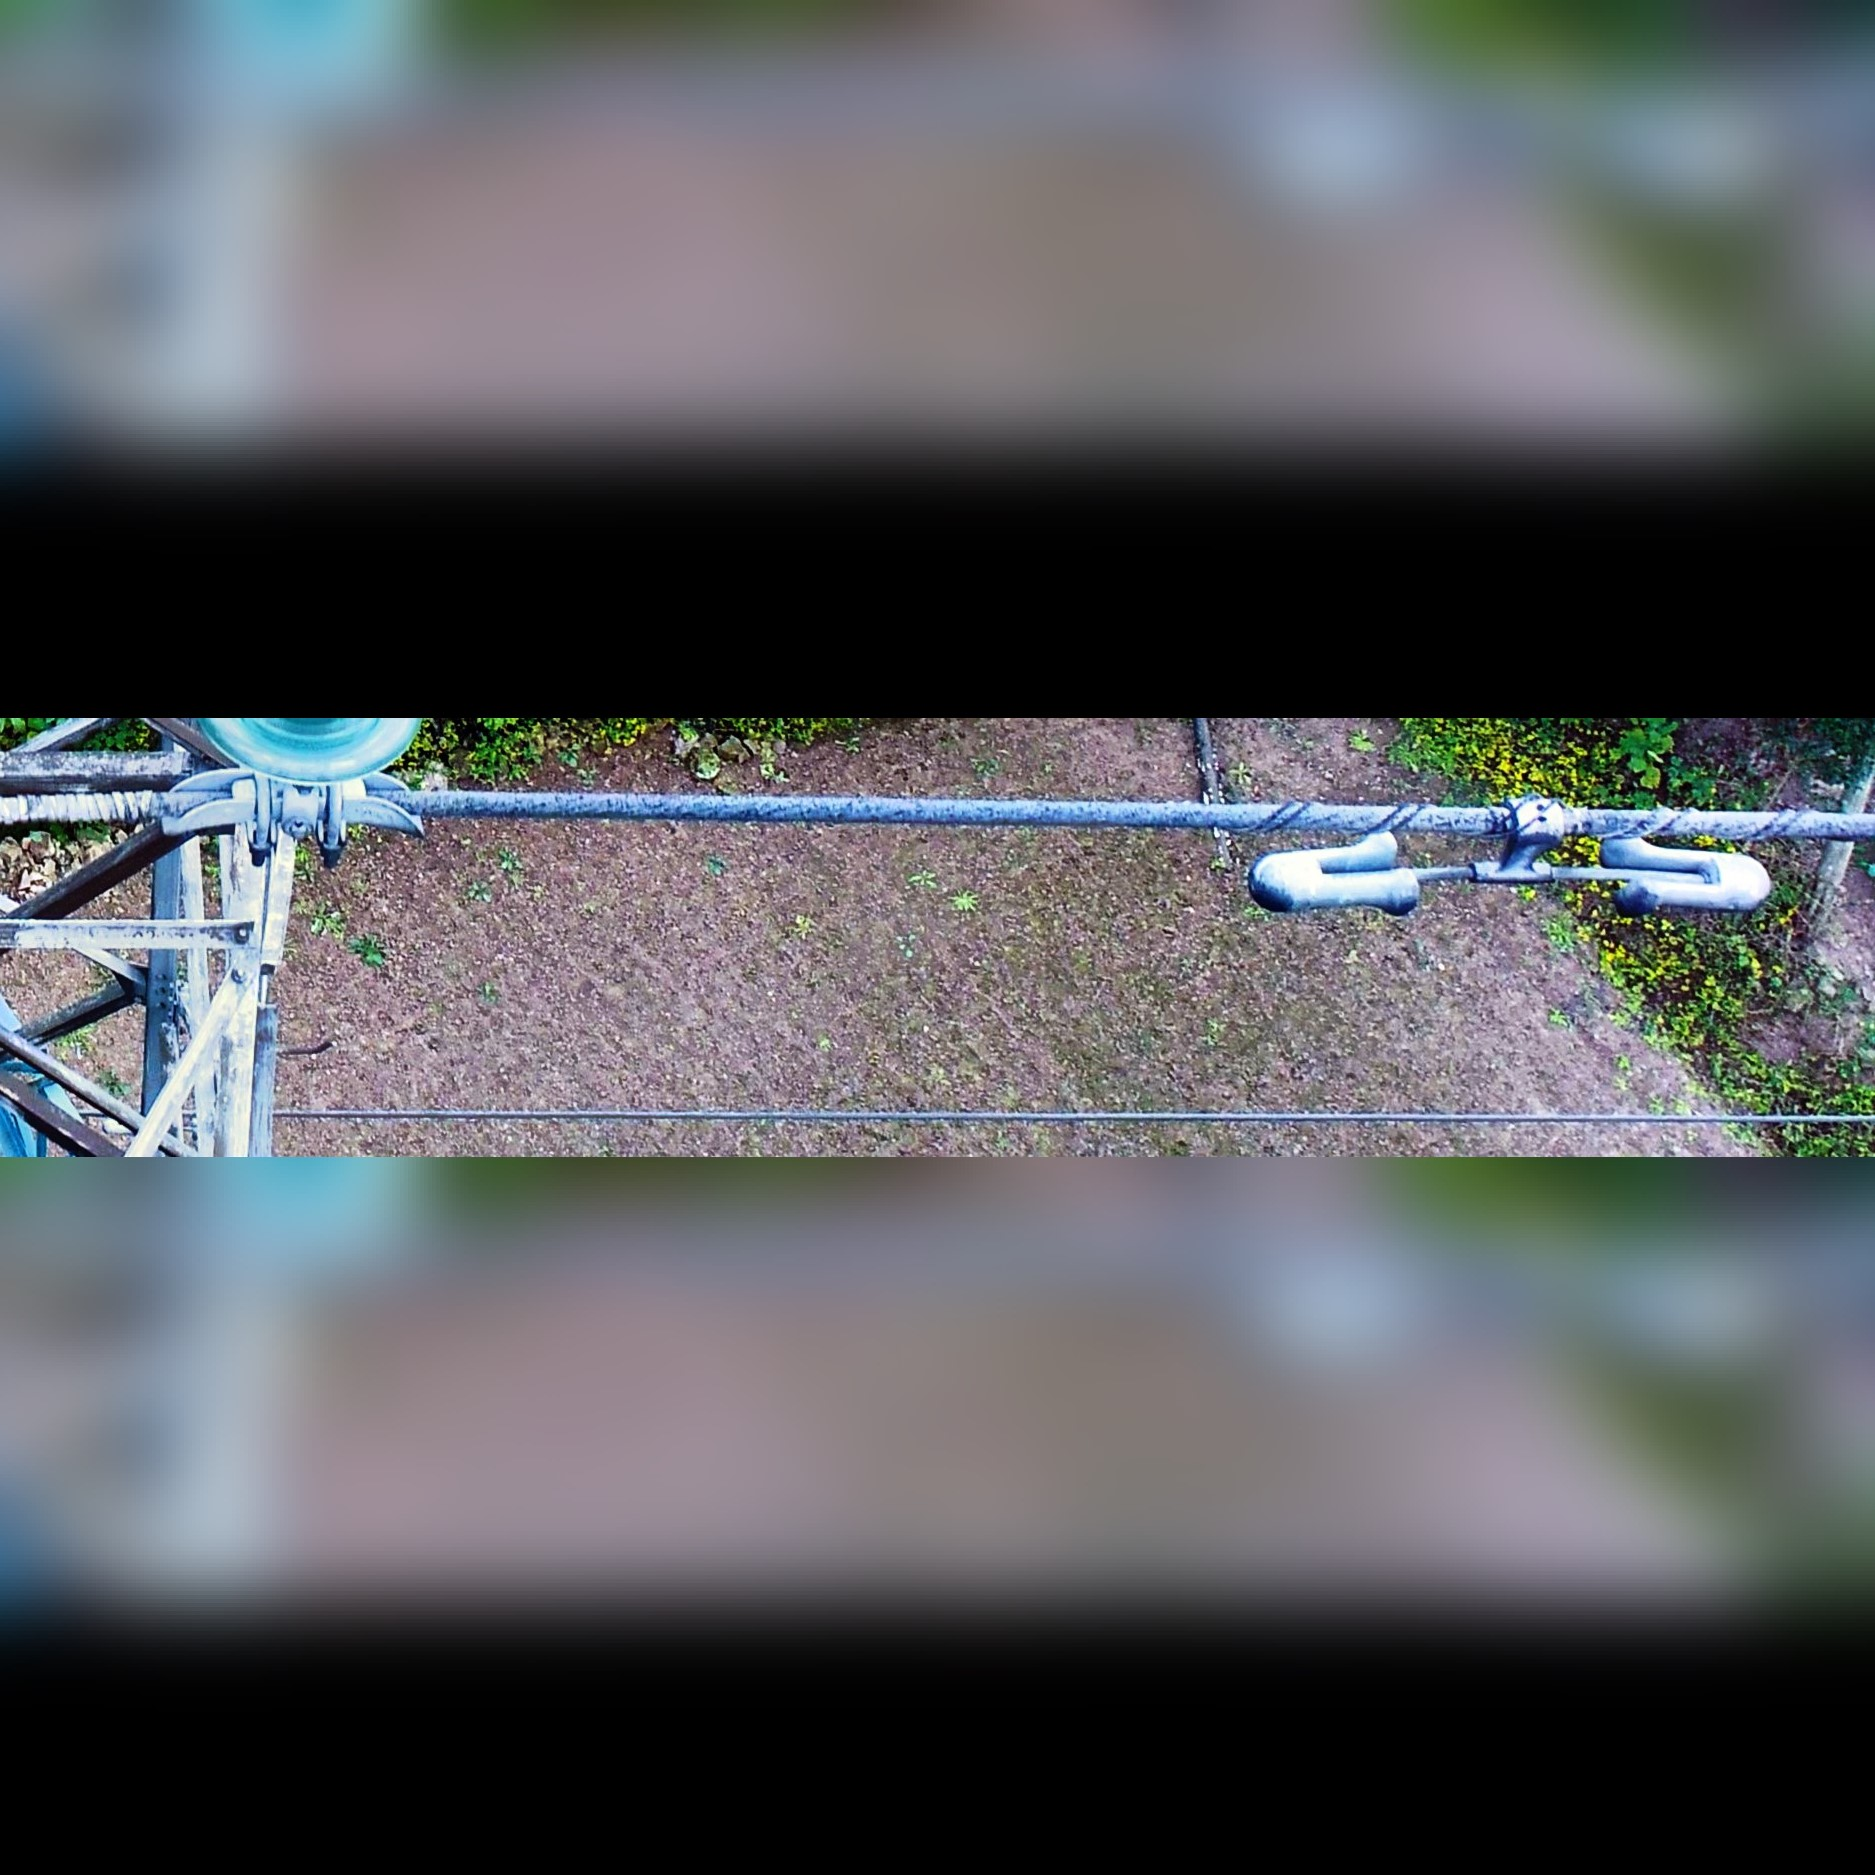Shockproof hammer: (1228, 795, 1789, 925)
